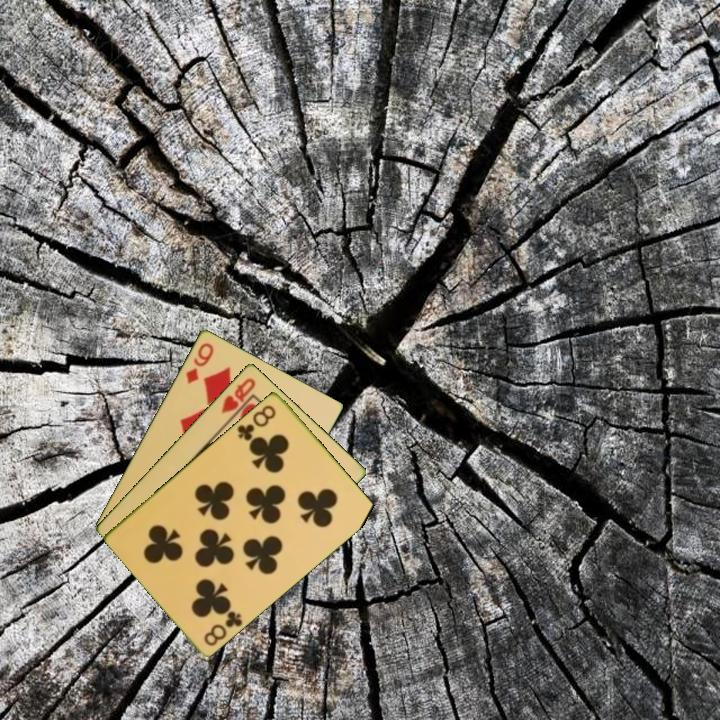8c: (233, 401, 279, 443), (200, 607, 246, 649)
9d: (182, 339, 217, 386)
Qh: (217, 374, 259, 416)
